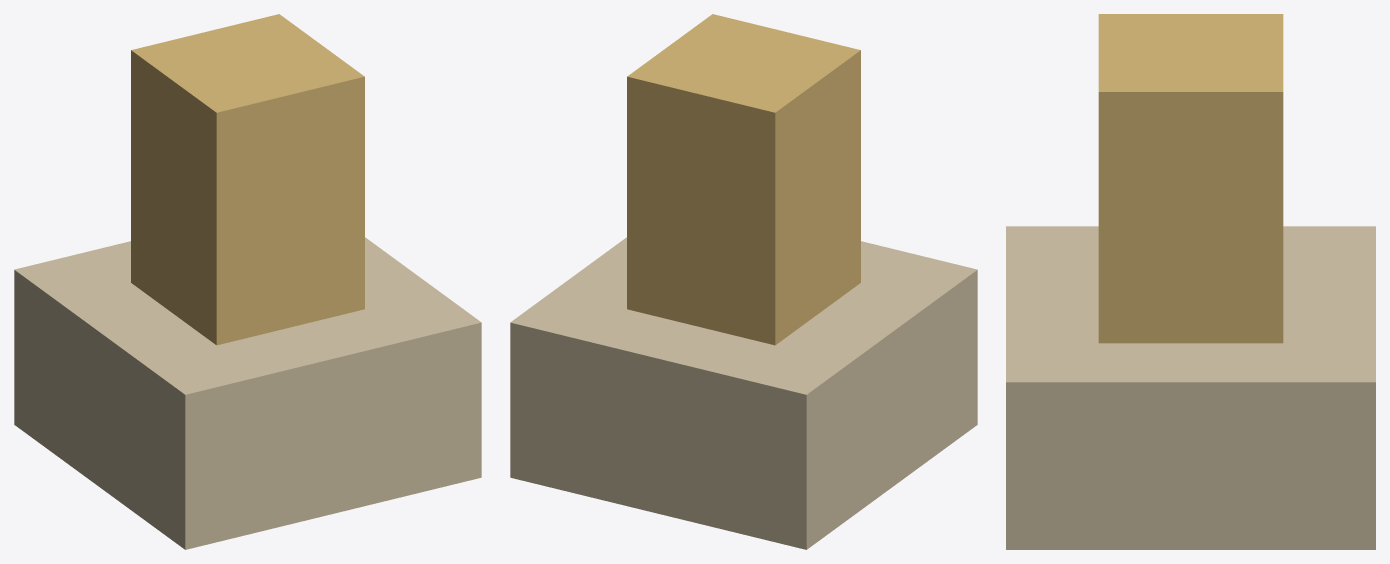
The model's file is vela_mesa_01.glb.
3 renders of one model, left to right at view 1: azimuth 30°, elevation 25°; view 2: azimuth 150°, elevation 25°; view 3: azimuth 270°, elevation 25°, orthographic. The views are drawn at different scales.
Visible parts, largest first — view 1: vela_mesa; view 2: vela_mesa; view 3: vela_mesa.
Part boxes in pixels (left/top/right/bottom): vela_mesa: left=14, top=14, right=481, bottom=549; vela_mesa: left=510, top=14, right=977, bottom=549; vela_mesa: left=1006, top=14, right=1375, bottom=549.
Size of the model in its own units: 0.3333 by 0.4167 by 0.3333.
